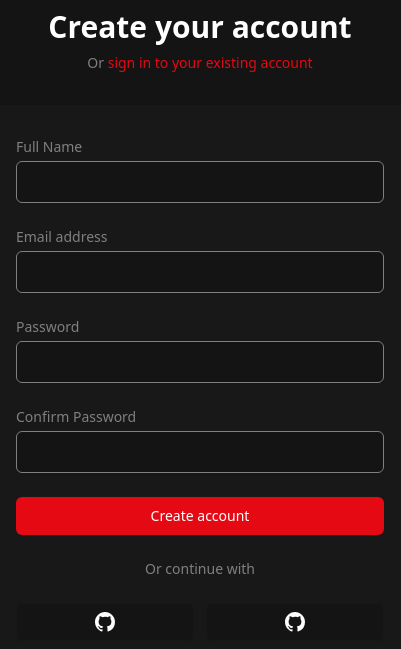
Test case: Register page › shows "Creating account..." while loading
Step 1. Type "Alice" into the field labelled "Full Name" → (200, 182), box x1=16 y1=161 x2=384 y2=203
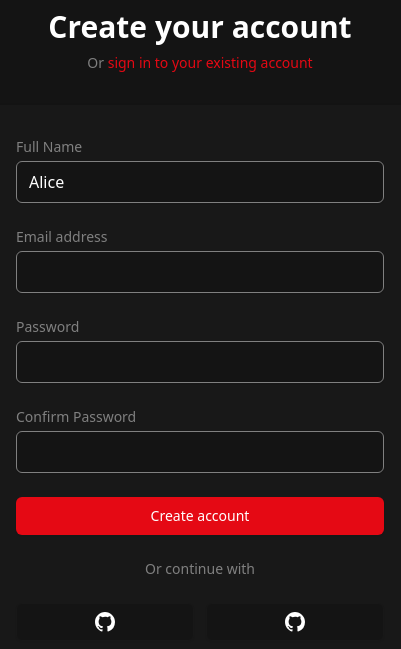
Step 2. Type "alice@example.com" into the field labelled "Email address" → (200, 272), box x1=16 y1=251 x2=384 y2=293
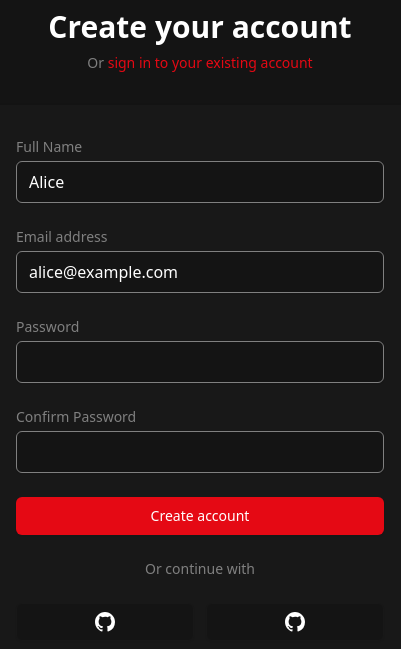
Step 3. Type "secret123" into the password field labelled "Password" → (200, 362), box x1=16 y1=341 x2=384 y2=383
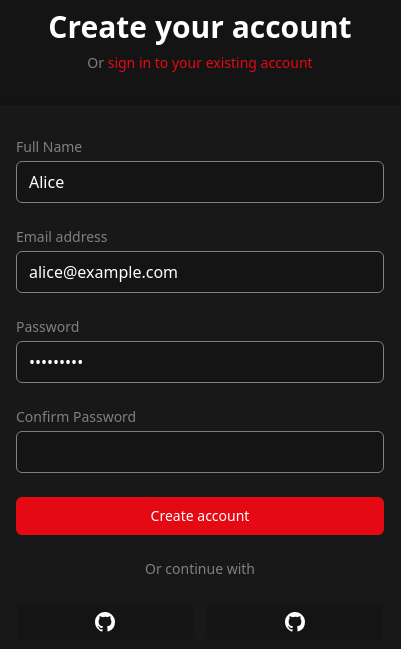
Step 4. Type "secret123" into the password field labelled "Confirm Password" → (200, 452), box x1=16 y1=431 x2=384 y2=473
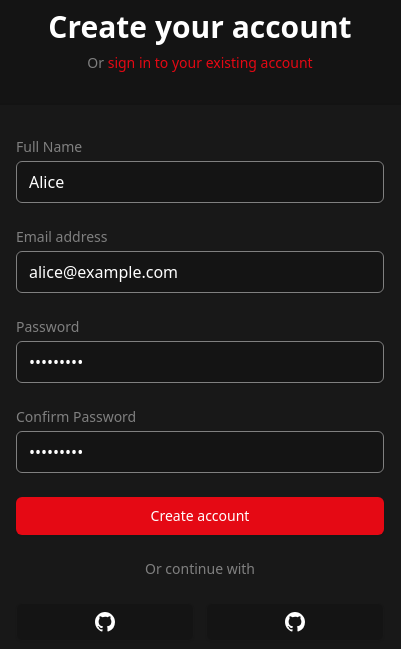
Step 5. Submit the form "Create account", box x1=16 y1=137 x2=384 y2=535
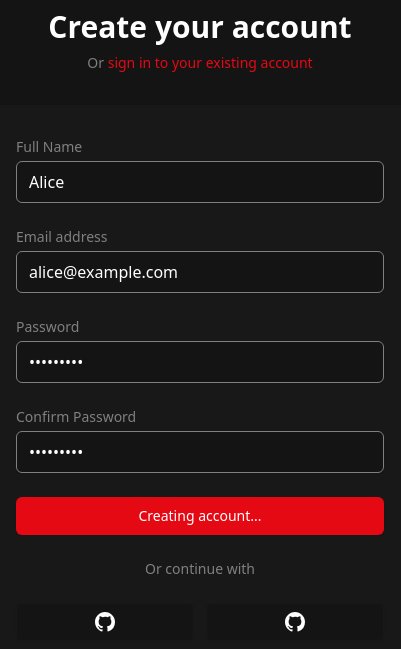
Check: the button "Creating account..." is shown, box x1=16 y1=497 x2=384 y2=535
